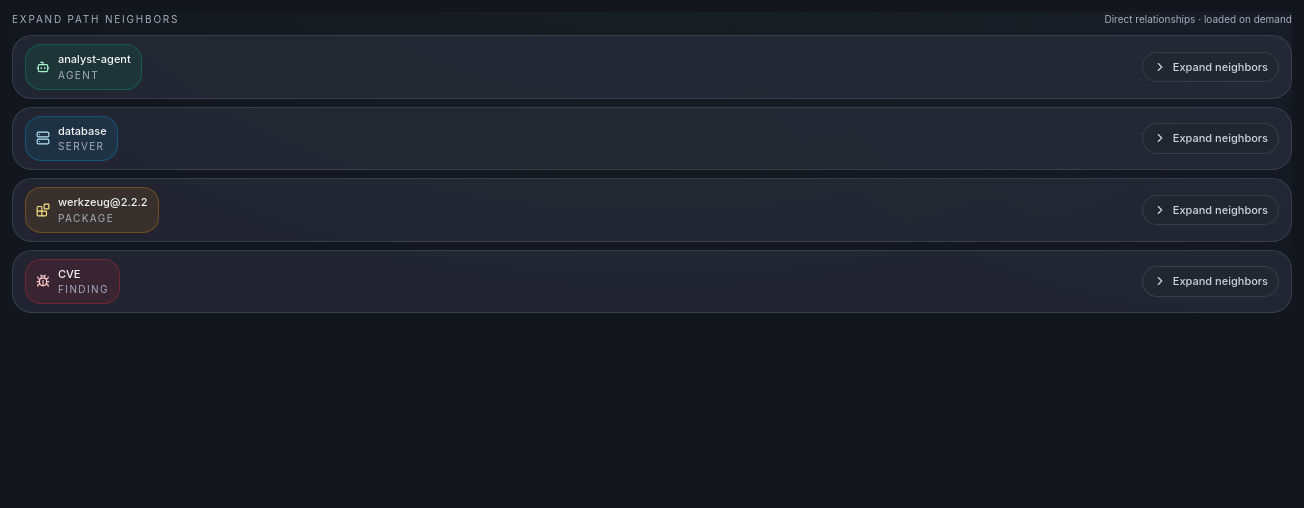
Scenario: does not describe a truncated empty response as an isolated node
Click the button with aria-label "Expand neighbors of werkzeug" at (1210, 210), box [1142,194,1279,225]
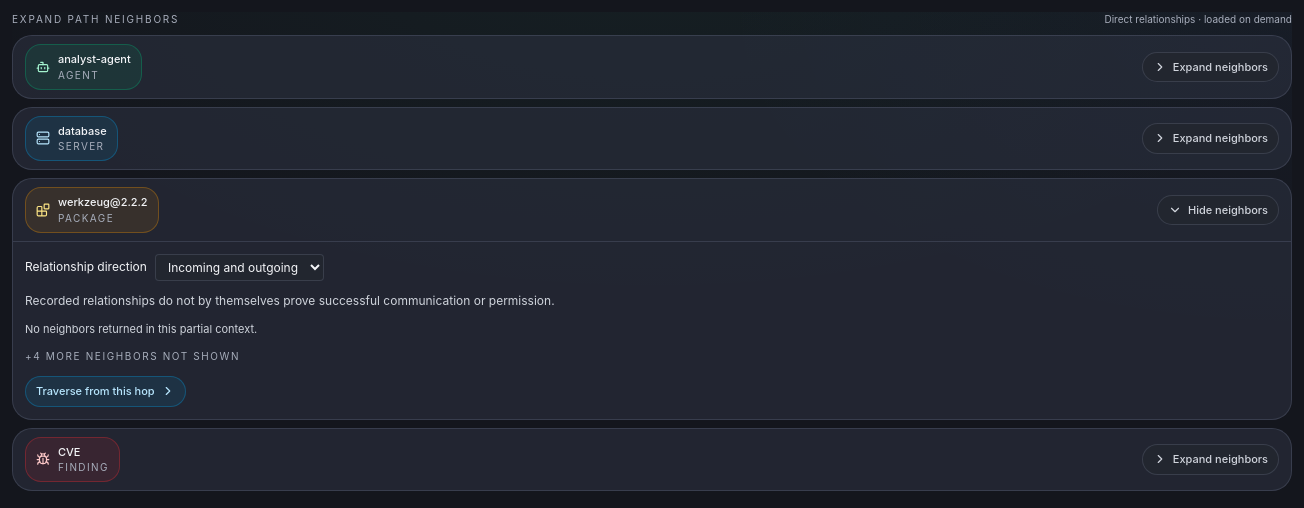
Expected: the text "No neighbors returned in this partial context." is shown, [25,322,257,336]
